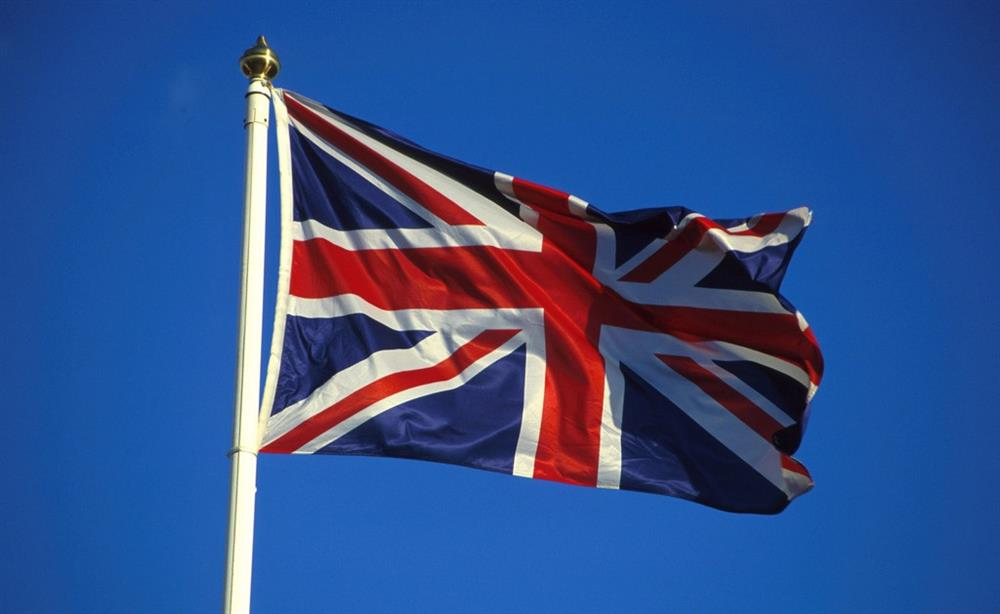UK_flag: (275, 89, 820, 518)
